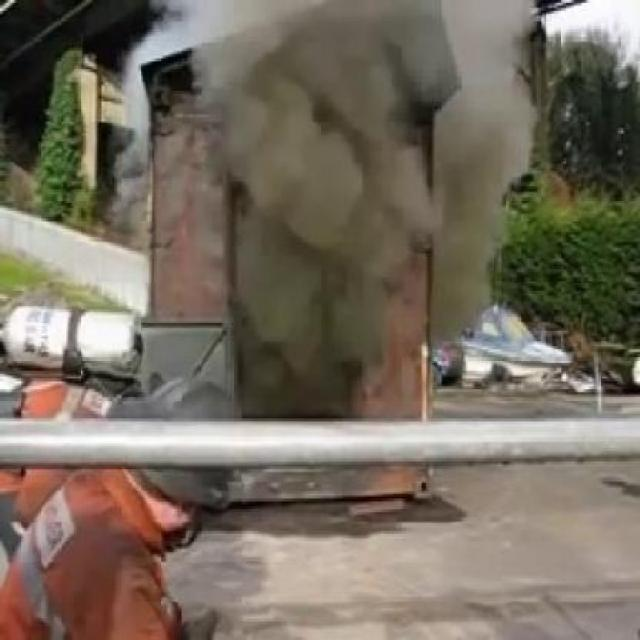smoke: (204, 6, 418, 354), (376, 2, 502, 321)
